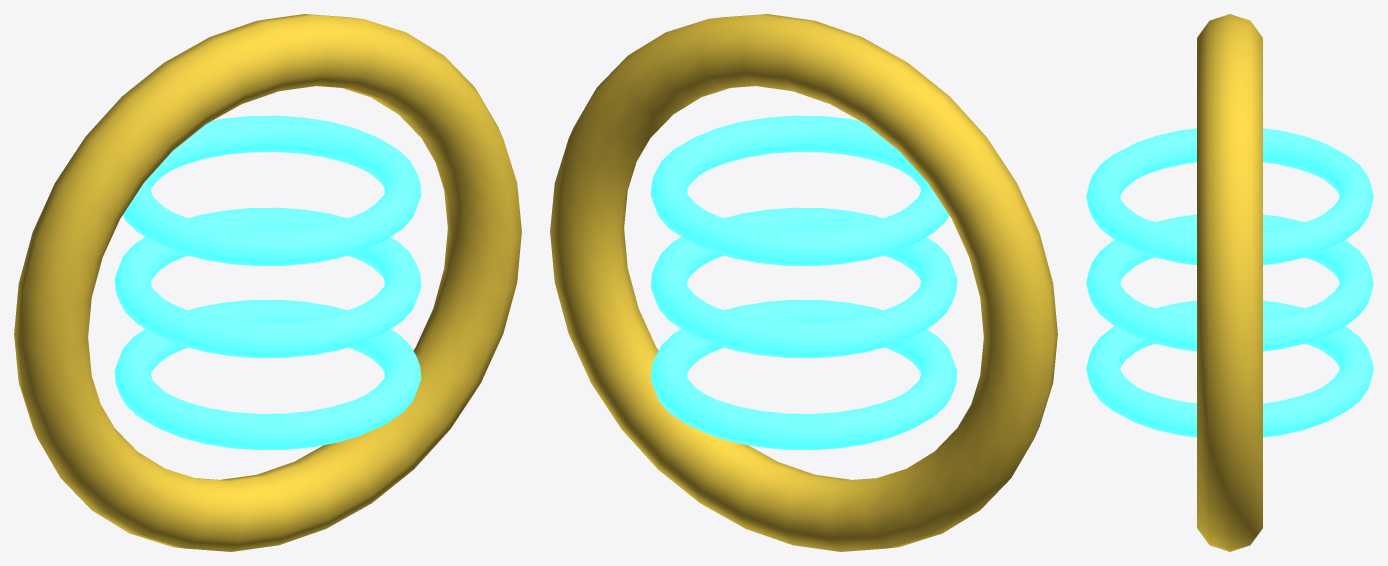
File: Pickup_pulse.glb
3 views of the same model, side by side, from view 1: azimuth 30°, elevation 25°; view 2: azimuth 150°, elevation 25°; view 3: azimuth 270°, elevation 25° (orthographic). The views are drawn at different scales.
Visible parts, largest first — view 1: Pickup ring.002, Wave.002, Wave.001, Wave; view 2: Pickup ring.002, Wave.002, Wave.001, Wave; view 3: Pickup ring.002, Wave.002, Wave.001, Wave.
Part boxes in pixels (x1,y1,x2,y2): Pickup ring.002: (14, 14, 521, 551); Wave.002: (122, 115, 421, 266); Wave.001: (114, 207, 421, 358); Wave: (114, 299, 421, 450); Pickup ring.002: (550, 14, 1057, 551); Wave.002: (650, 115, 949, 266); Wave.001: (650, 207, 957, 358); Wave: (650, 299, 957, 450); Pickup ring.002: (1197, 14, 1262, 551); Wave.002: (1086, 128, 1373, 265); Wave.001: (1086, 214, 1373, 351); Wave: (1086, 300, 1373, 437).
Bounding box in the file's own units: 0.85 × 0.85 × 0.454.
